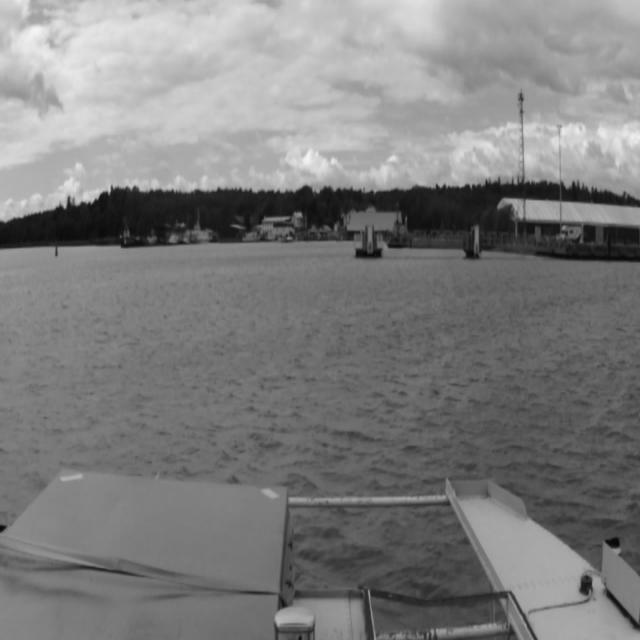buoy: (54, 244, 58, 258)
ship: (188, 225, 216, 245), (164, 231, 178, 245)
